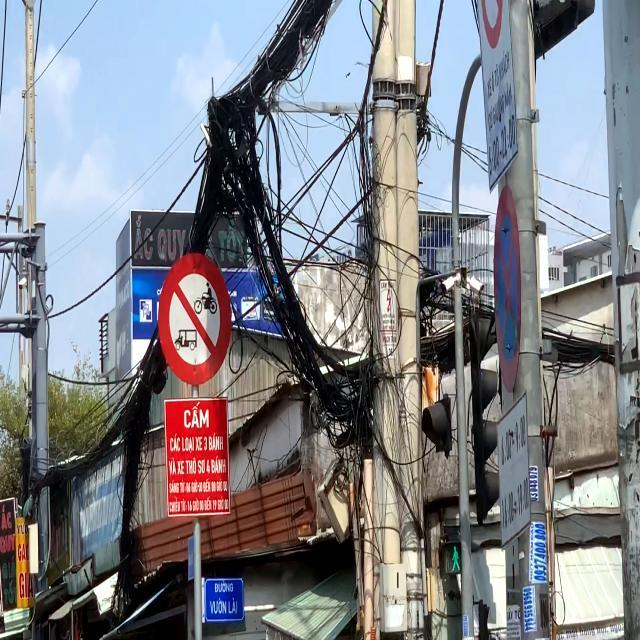P-104: (157, 254, 230, 384)
